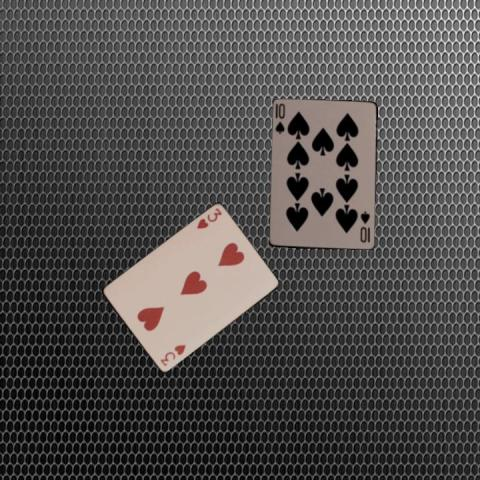10s: (358, 209, 372, 244), (272, 101, 286, 135)
3h: (158, 342, 188, 368), (194, 205, 224, 231)
